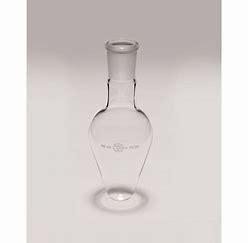Pear shaped flask: (70, 19, 157, 202)
